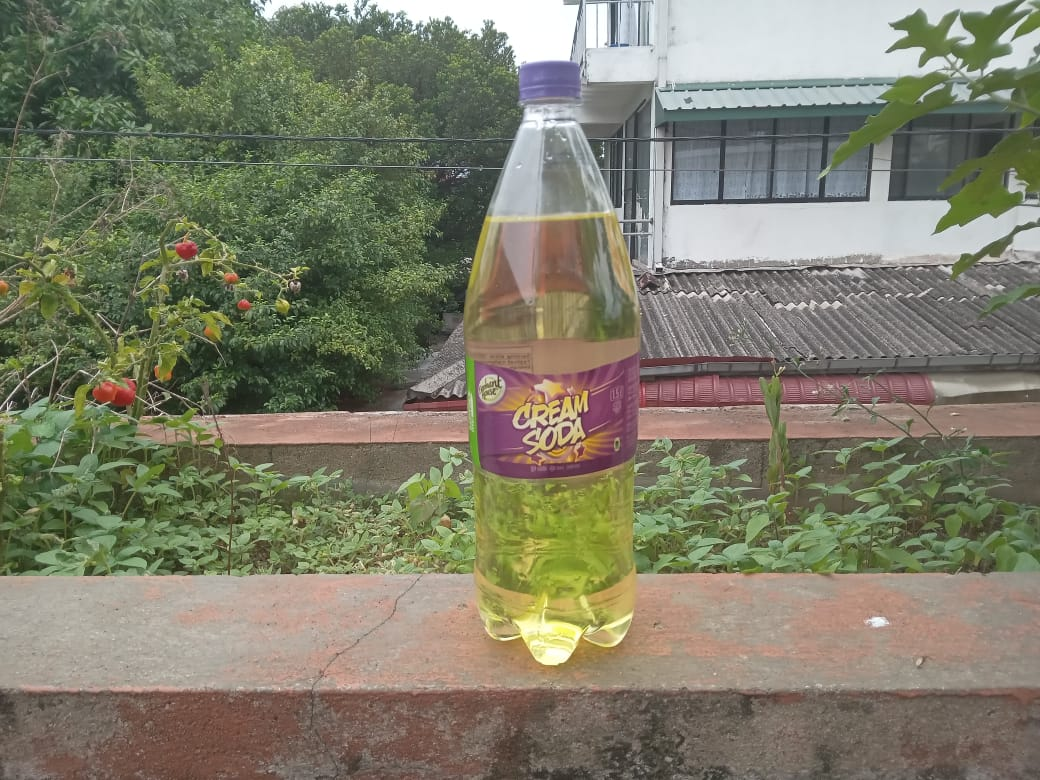L: (454, 54, 648, 669)
